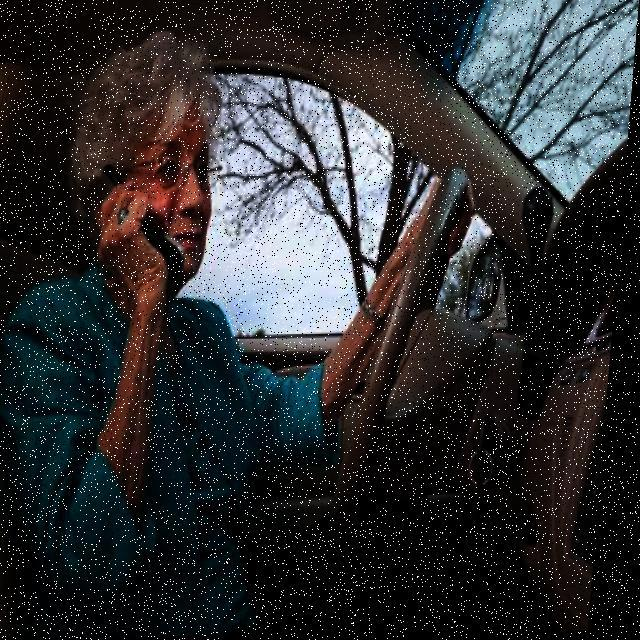noSeatbelt: (0, 256, 269, 636)
